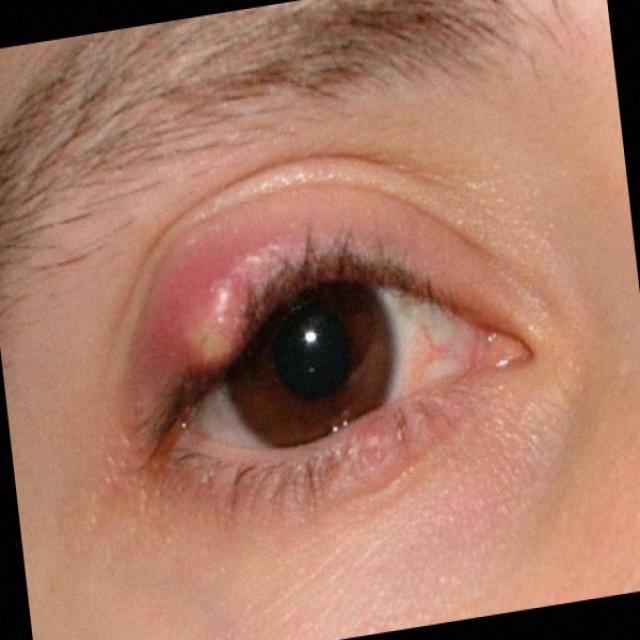Chalazion: (86, 189, 542, 494)
